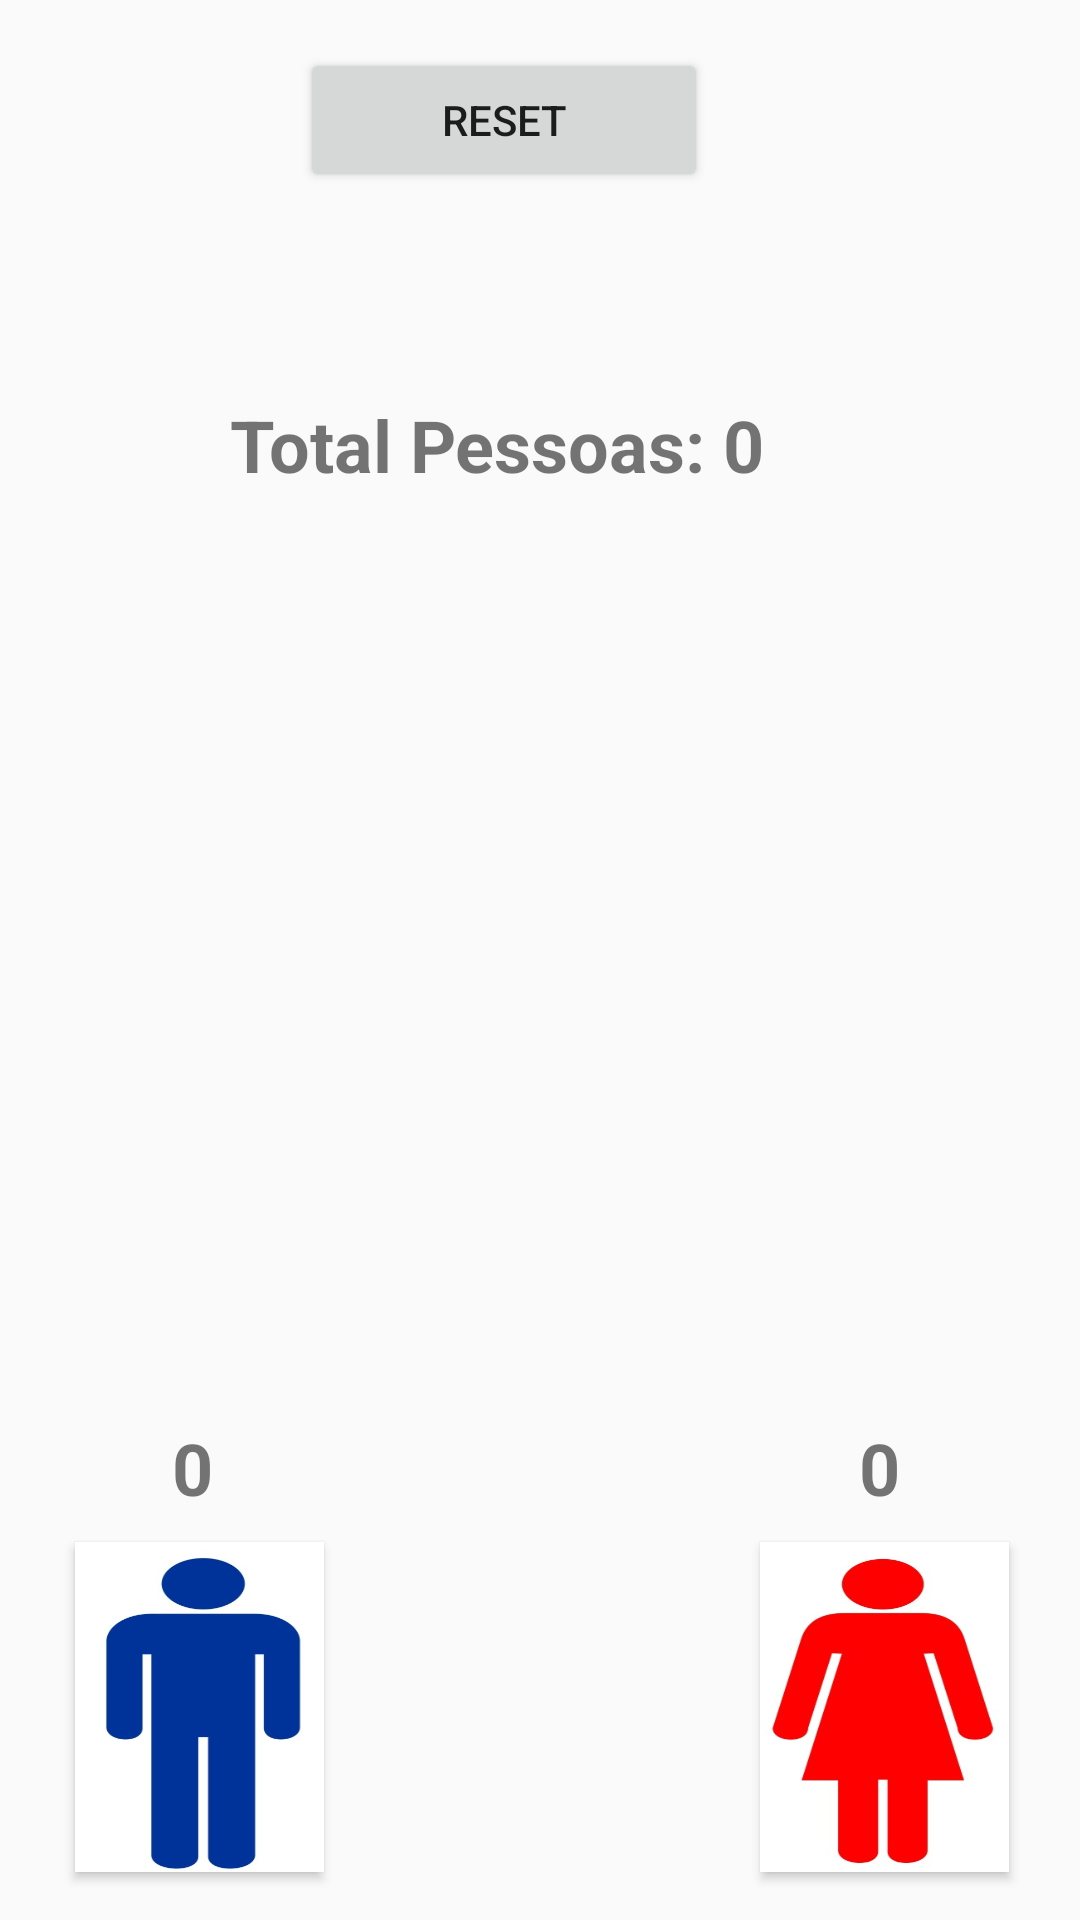

Screen size 1080 × 1920. Icon name, then its box in pixels as {"x1": x1, "y1": y1, "x2": x2, "y2": y2}:
homem: {"x1": 106, "y1": 1558, "x2": 301, "y2": 1869}
mulher: {"x1": 772, "y1": 1559, "x2": 994, "y2": 1863}
